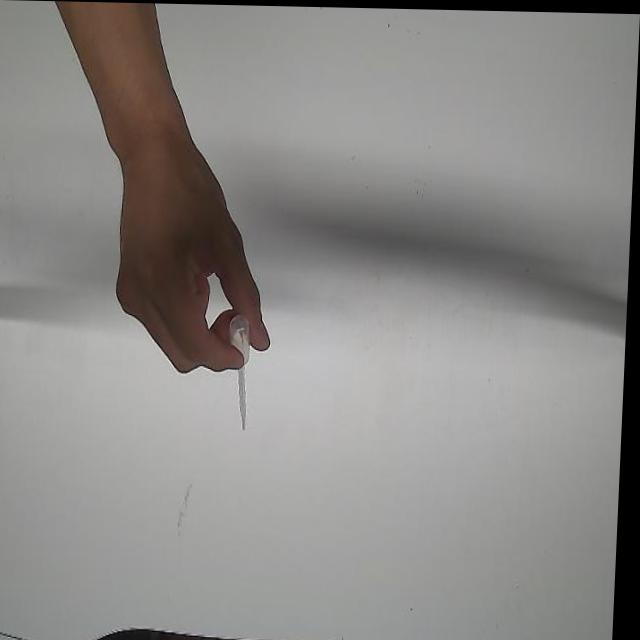Disposable Pasteur Pipette - Sealed: (227, 306, 263, 432)
